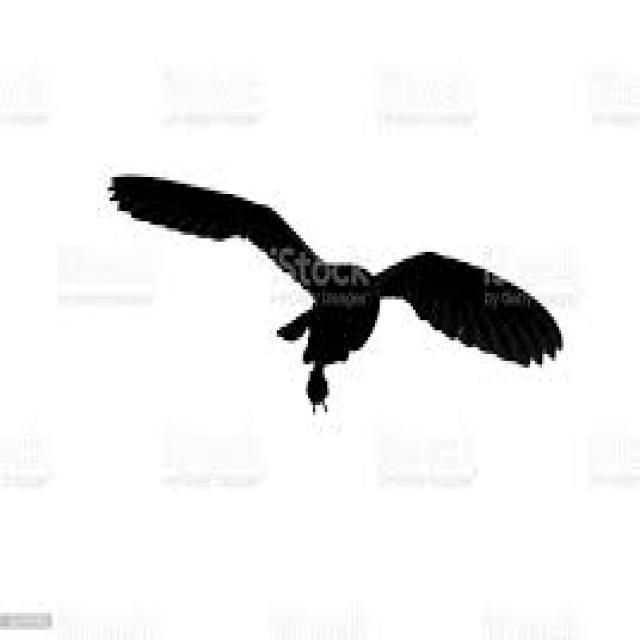bird: (72, 77, 606, 502)
